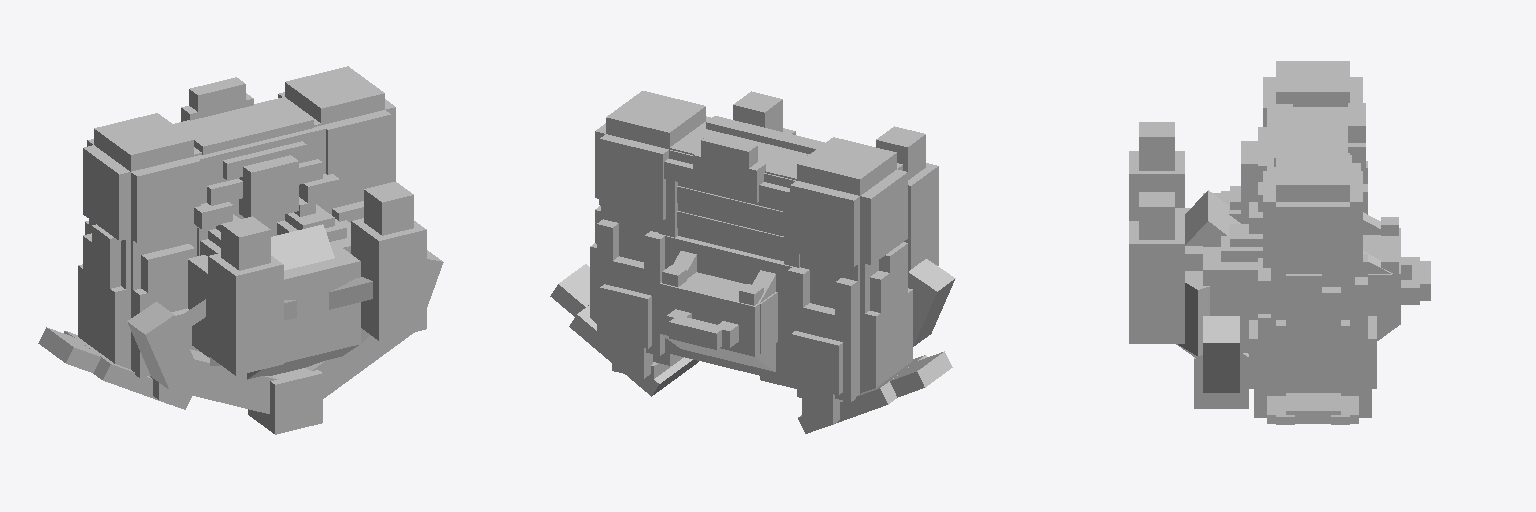
File: t45_j_armor.obj
3 renders of one model, left to right at view 1: azimuth 30°, elevation 25°; view 2: azimuth 150°, elevation 25°; view 3: azimuth 270°, elevation 25°, orthographic.
Parts seen in each view (by area): view 1: Body, RightArm, LeftArm; view 2: Body, RightArm, LeftArm; view 3: Body, LeftArm, RightArm.
Part boxes in pixels (x1,y1,x2,y2): Body: (127, 77, 443, 434); RightArm: (38, 113, 200, 409); LeftArm: (278, 66, 395, 222); Body: (659, 91, 955, 386); RightArm: (788, 137, 952, 433); LeftArm: (550, 91, 710, 396); Body: (1129, 103, 1430, 408); LeftArm: (1249, 154, 1376, 424); RightArm: (1263, 61, 1367, 214).
Size of the model in its own units: 23.57 by 17 by 16.4.